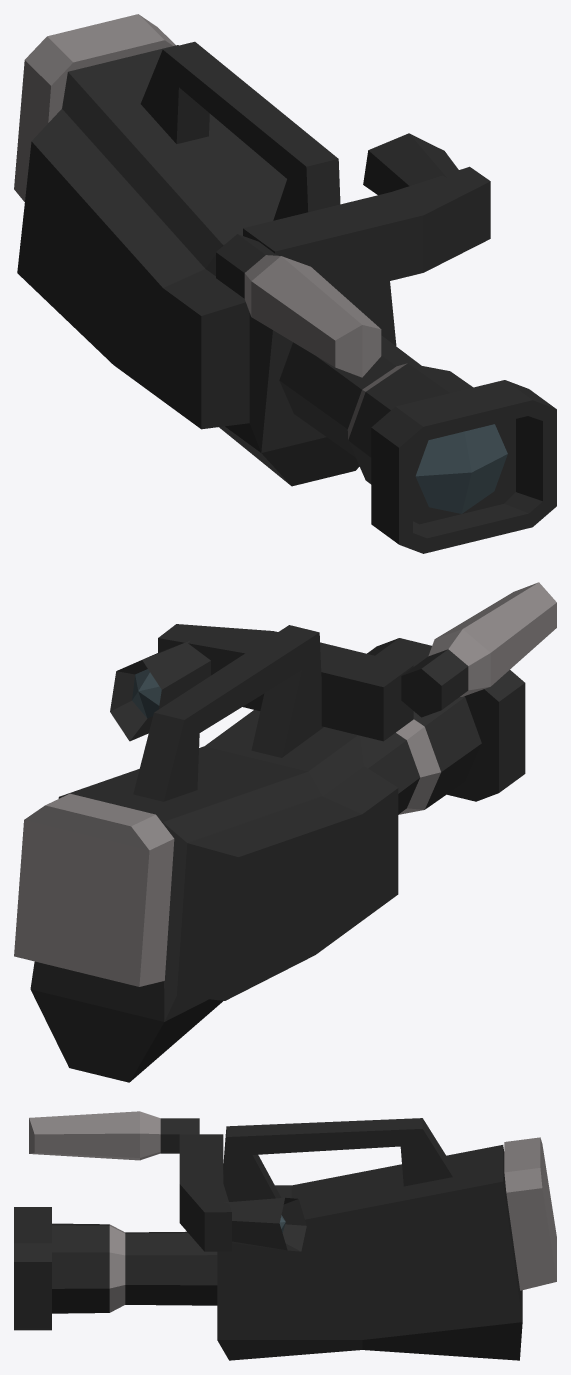
Rendered from electronics_tv-camera.fbx.
The picture shows the model from 3 angles, top to bottom: view 1: azimuth 30°, elevation 25°; view 2: azimuth 150°, elevation 25°; view 3: azimuth 270°, elevation 25°; orthographic projection. The views are drawn at different scales.
Parts seen in each view (by area): view 1: electronics_tv_camera; view 2: electronics_tv_camera; view 3: electronics_tv_camera.
Boxes of the visible parts, x1=… form: electronics_tv_camera: x1=14, y1=14, x2=556, y2=553; electronics_tv_camera: x1=14, y1=582, x2=556, y2=1082; electronics_tv_camera: x1=14, y1=1111, x2=556, y2=1360.
Bounding box in the file's own units: 86.07 × 91.66 × 200.
